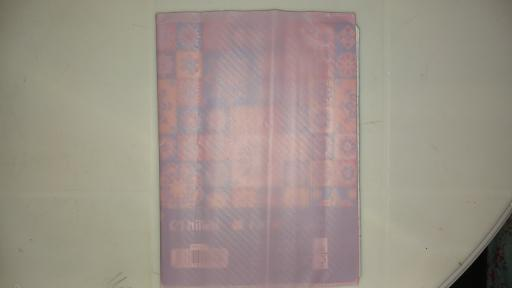notebook: (160, 9, 362, 286)
